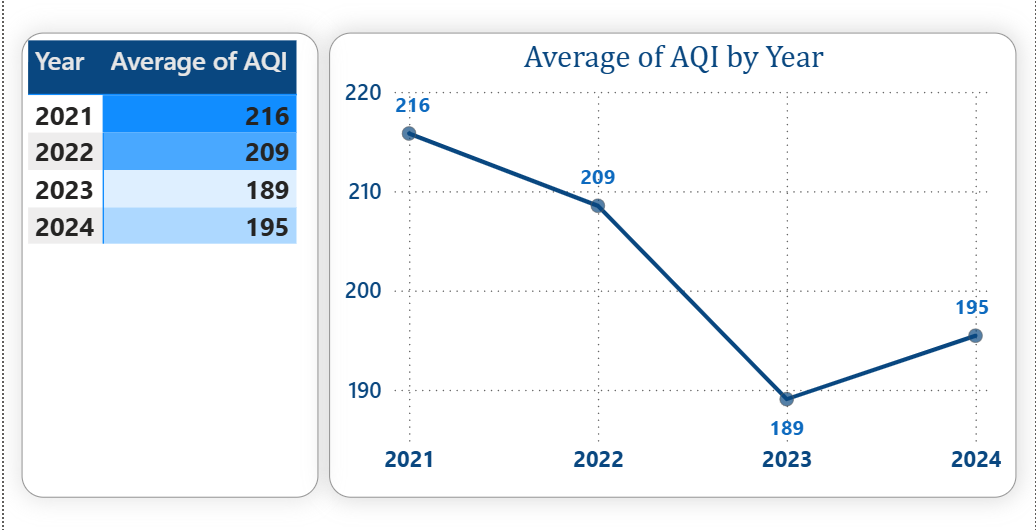

This screenshot's page, from the dashboard's own definition file:
{"tool":"powerbi","page":{"name":"Average AQI by Year","canvas":[750,440],"ordinal":2},"visuals":[{"type":"pivotTable","fields":{"Values":["Avg(Pollutants_Gas.AQI)"],"Rows":["Date.Calender Date.Variation.Date Hierarchy.Year"]},"box":[12.7,23.6,216.4,338.2],"z":0},{"type":"areaChart","fields":{"Y":["Avg(Pollutants_Gas.AQI)"],"Category":["Date.Year"]},"box":[236.4,23.6,500,338.2],"z":1000}]}

Visuals, with their boxes on the page's 750x440 design canvas (x1, y1, x2, y2). These are canvas units, not pixel positions in the 1036x530 screenshot, which may show the page scaled, cropped or inside an application window:
pivotTable - Avg(Pollutants_Gas.AQI) x Date.Calender Date.Variation.Date Hierarchy.Year: BBox(13, 24, 229, 362)
areaChart - Avg(Pollutants_Gas.AQI) x Date.Year: BBox(236, 24, 736, 362)
